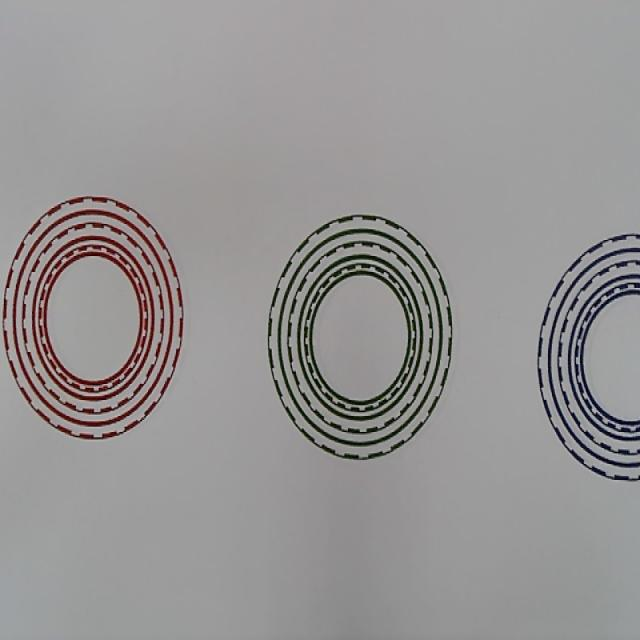g: (267, 214, 454, 461)
red-green-blue: (3, 196, 183, 439)
